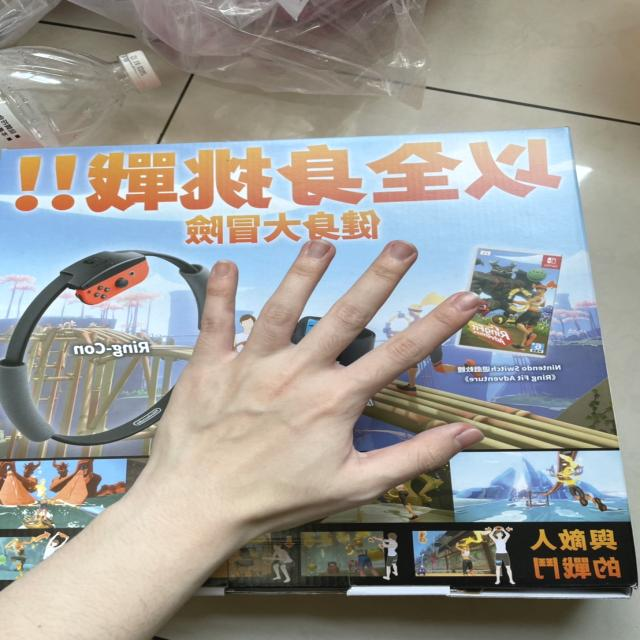no_glove: (120, 232, 502, 554)
